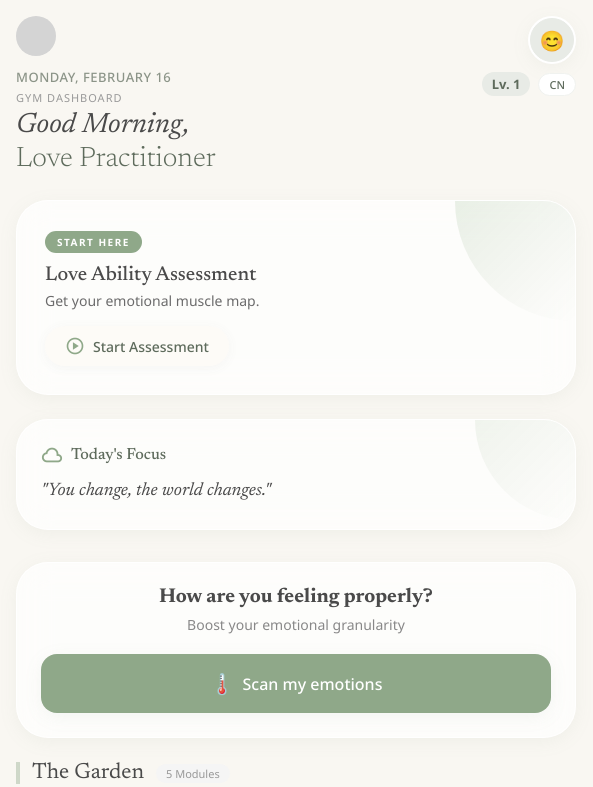
Test: Dashboard › Function Logic › toggles language
Click the button "CN": {"x": 557, "y": 84} [538,72,576,96]
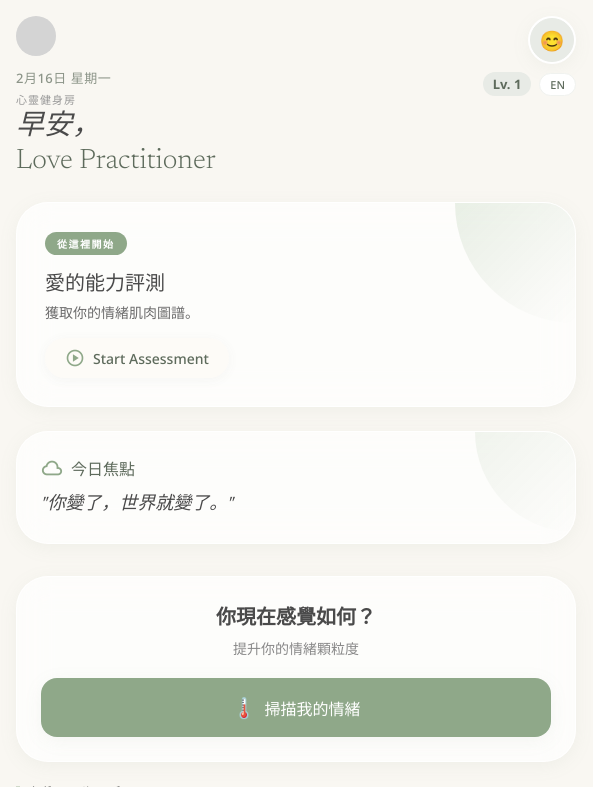
Expected: the button "EN" is shown, [539,72,576,96]
